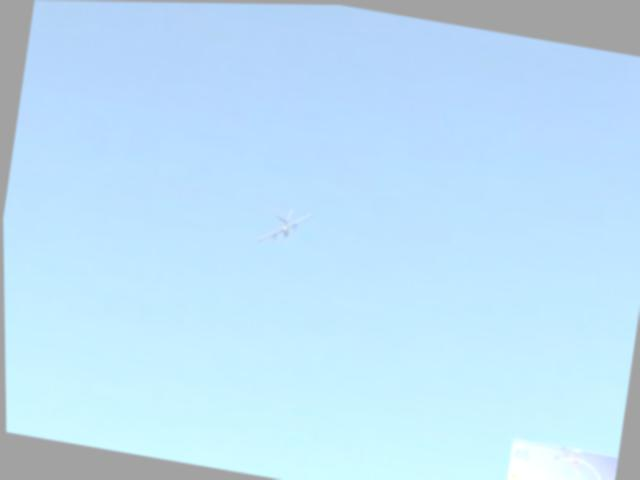uav: (249, 191, 317, 255)
